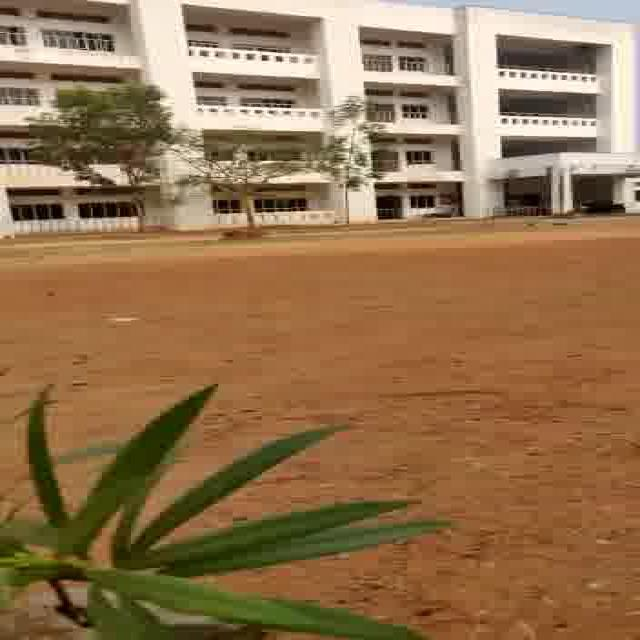Oleander: (0, 370, 395, 639)
